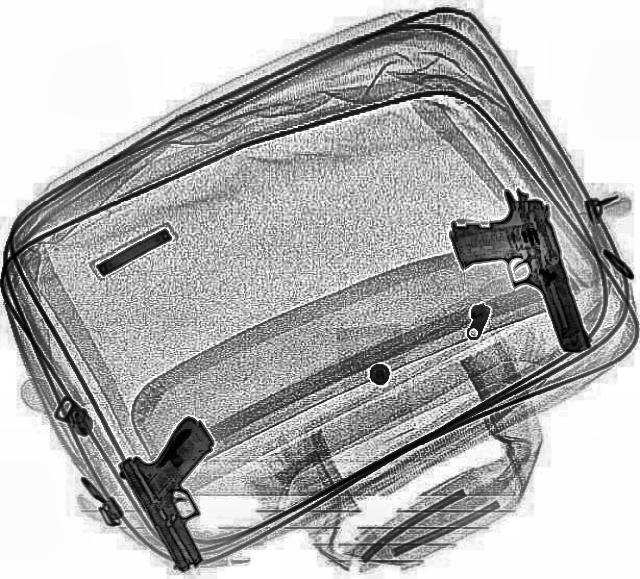Gun: (439, 182, 591, 368), (103, 413, 269, 574)
